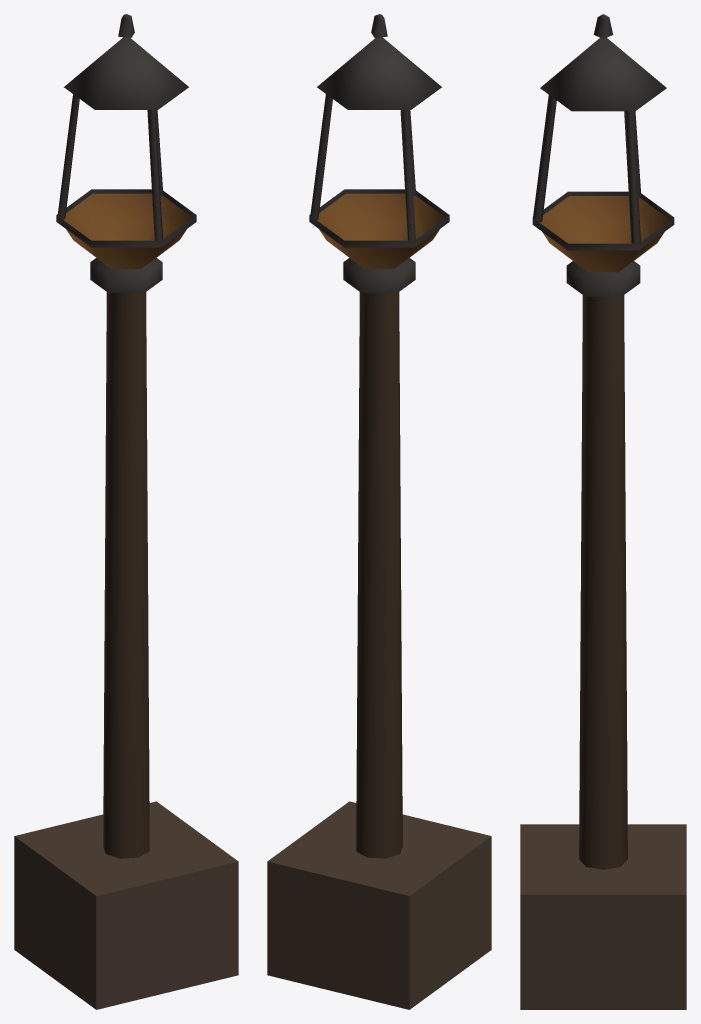
The model's file is resin_lamp.glb.
The picture shows the model from 3 angles, left to right: view 1: azimuth 30°, elevation 25°; view 2: azimuth 150°, elevation 25°; view 3: azimuth 270°, elevation 25°; orthographic projection.
Visible parts, largest first — view 1: resin_lamp; view 2: resin_lamp; view 3: resin_lamp.
Part boxes in pixels (x1,y1,x2,y2): resin_lamp: [14, 14, 238, 1009]; resin_lamp: [267, 14, 491, 1009]; resin_lamp: [520, 14, 686, 1009].
Size of the model in its own units: 0.34 by 2.17 by 0.34.
